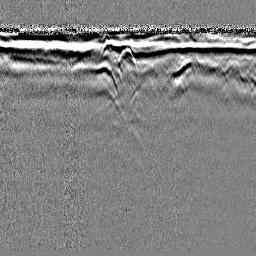cavity: (116, 44, 137, 70)
